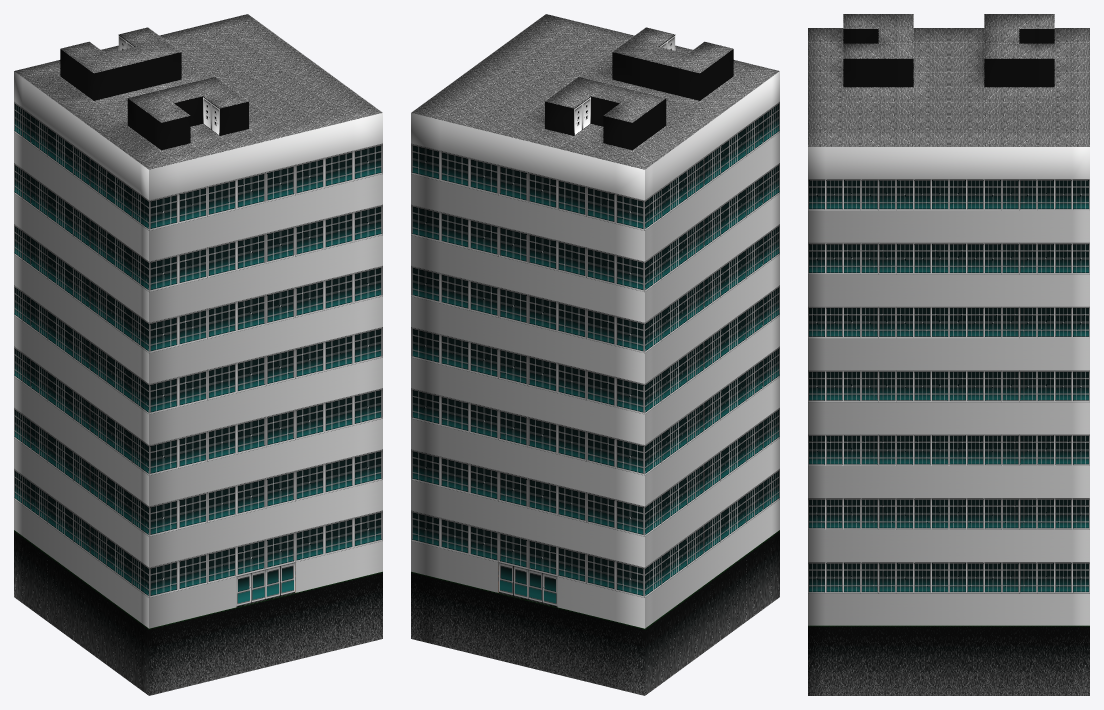
Rendered from kantoor_mod2_2a.fbx.
3 views of the same model, side by side, from view 1: azimuth 30°, elevation 25°; view 2: azimuth 150°, elevation 25°; view 3: azimuth 270°, elevation 25° (orthographic). The views are drawn at different scales.
Parts seen in each view (by area): view 1: kantoor_mod2_2a; view 2: kantoor_mod2_2a; view 3: kantoor_mod2_2a.
Boxes of the visible parts, <box> form: kantoor_mod2_2a: <box>14,14,382,695</box>; kantoor_mod2_2a: <box>411,14,779,695</box>; kantoor_mod2_2a: <box>808,14,1089,695</box>.
Size of the model in its own units: 2880 by 6516 by 2880.
